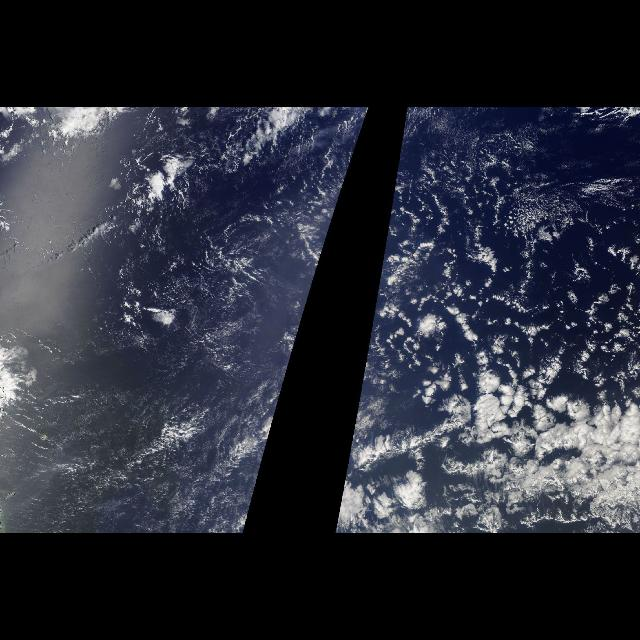Gravel: (373, 246, 634, 398)
Sugar: (4, 366, 290, 530)
